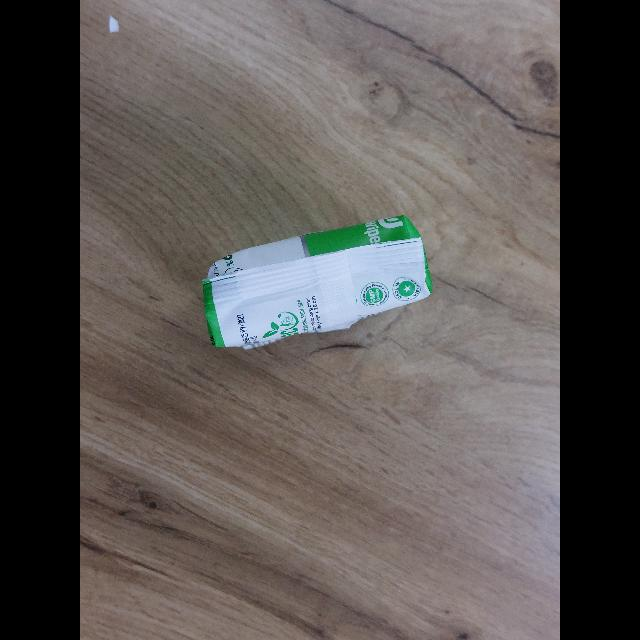khan_giay: (202, 216, 432, 349)
